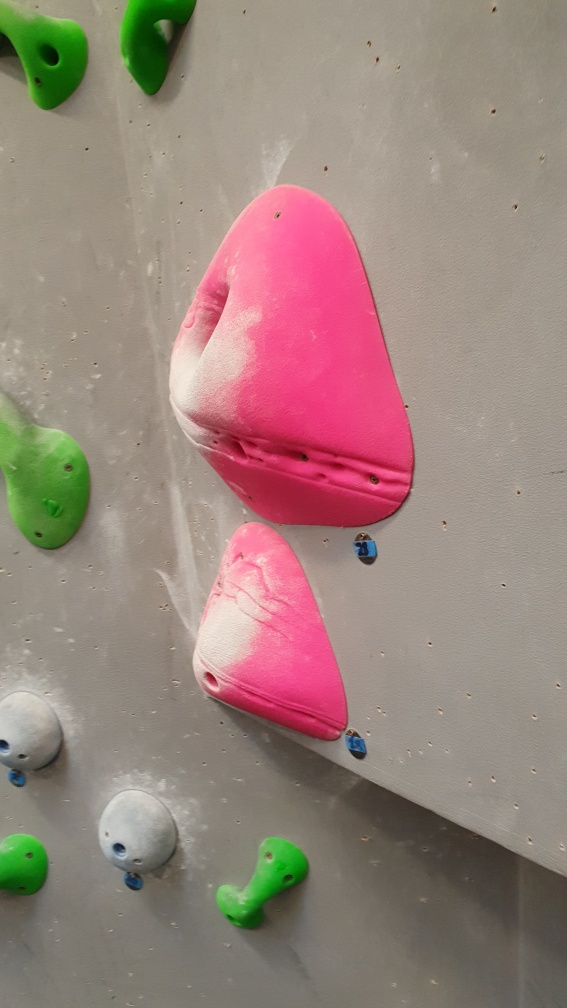Hand Start: (352, 531, 385, 564), (343, 725, 369, 763), (122, 868, 142, 893), (9, 768, 29, 792)
Pocket: (167, 181, 416, 530), (193, 524, 349, 747)
Sloper: (96, 789, 178, 874), (1, 689, 66, 771)
